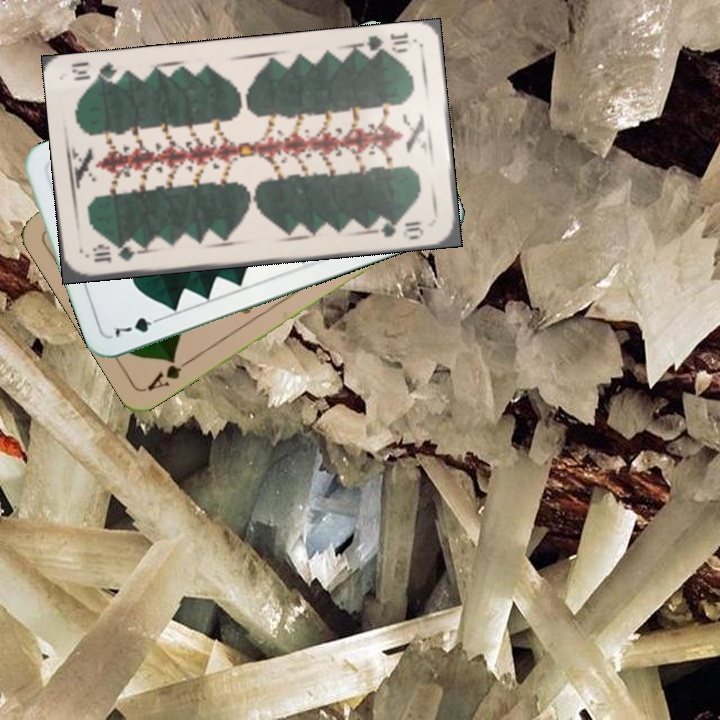G10: (356, 28, 412, 59), (89, 241, 144, 266)
G7: (109, 312, 167, 340)
GA: (142, 354, 195, 394)
